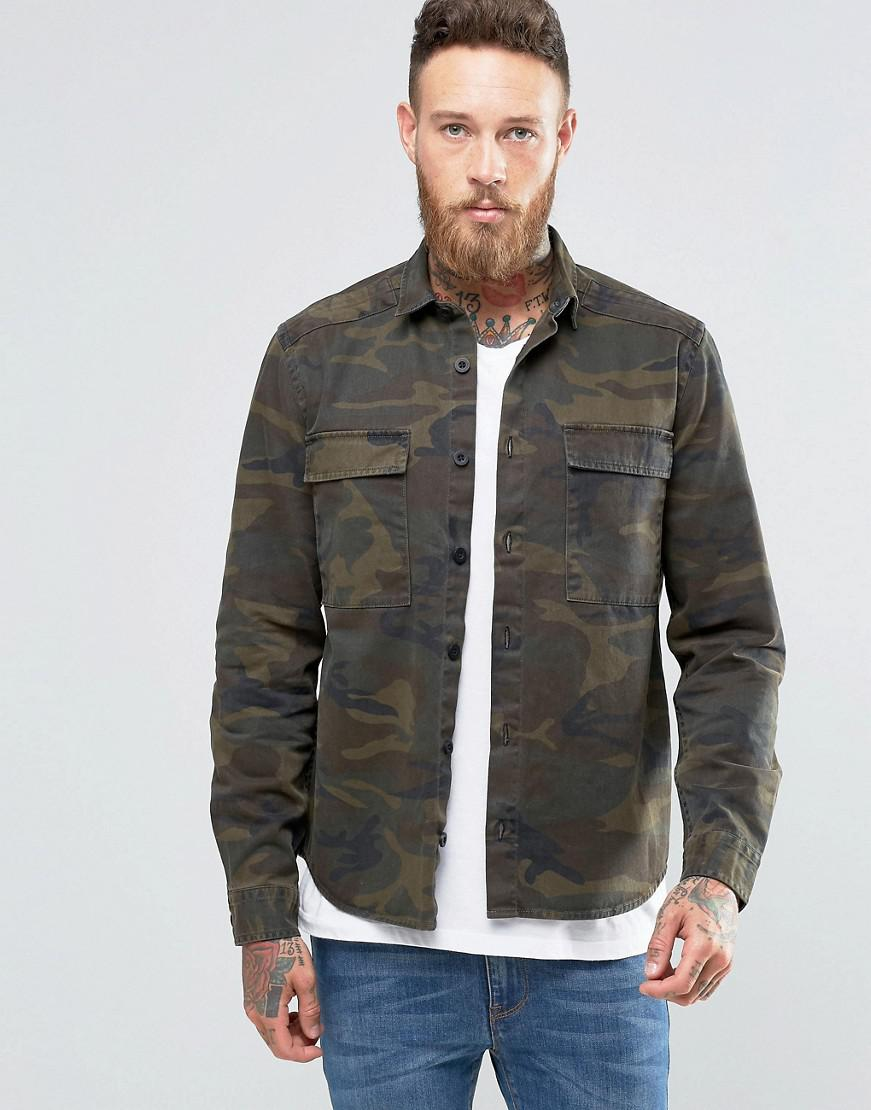teeshirt: (203, 239, 830, 893)
